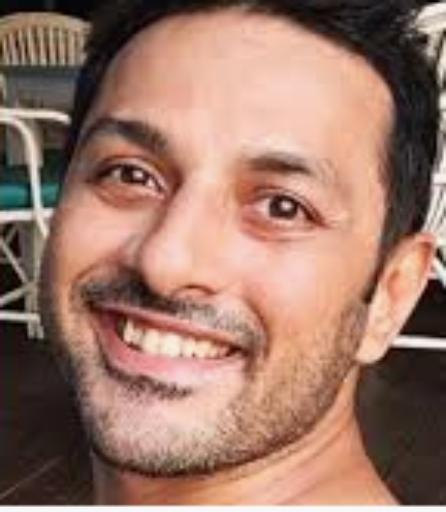left_eye: (244, 197, 324, 235)
left_lip_corner: (225, 336, 254, 363)
right_eye: (86, 163, 166, 195)
right_lip_corner: (87, 303, 125, 327)
